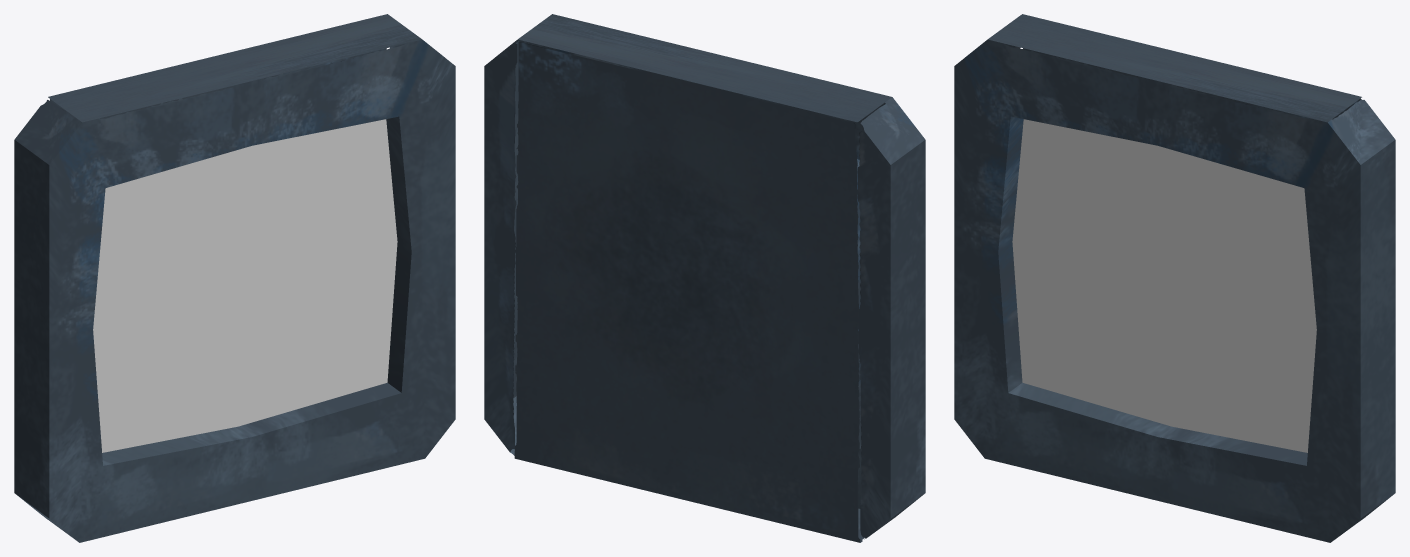
Rendered from vent_prop_anim.fbx.
3 views of the same model, side by side, from view 1: azimuth 30°, elevation 25°; view 2: azimuth 150°, elevation 25°; view 3: azimuth 330°, elevation 25° (orthographic).
Parts seen in each view (by area): view 1: VentFrame, Chain; view 2: VentFrame; view 3: VentFrame, Chain.
Part boxes in pixels (<box>): VentFrame: <box>14,14,455,542</box>; Chain: <box>93,119,397,452</box>; VentFrame: <box>484,14,925,542</box>; VentFrame: <box>954,14,1395,542</box>; Chain: <box>1012,119,1316,452</box>.
Size of the model in its own units: 4.82 by 4.76 by 0.716.
